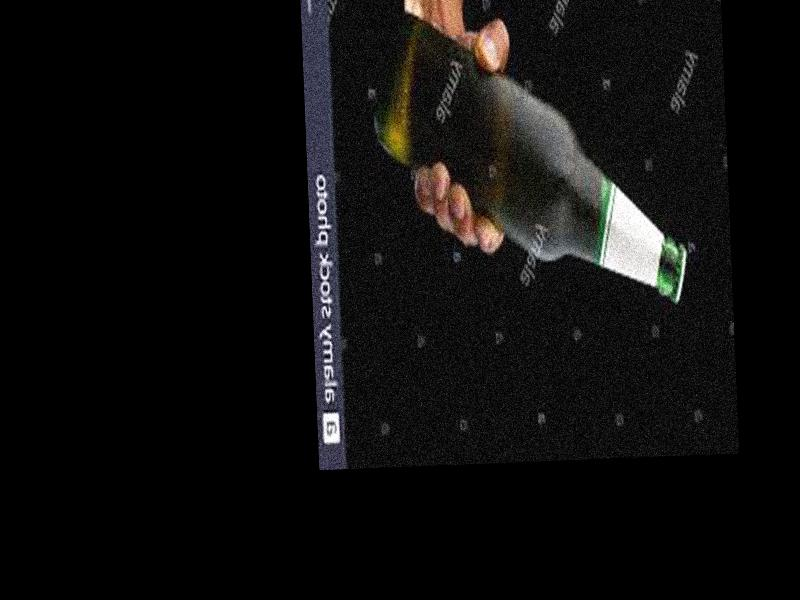Beer: (366, 2, 690, 318)
